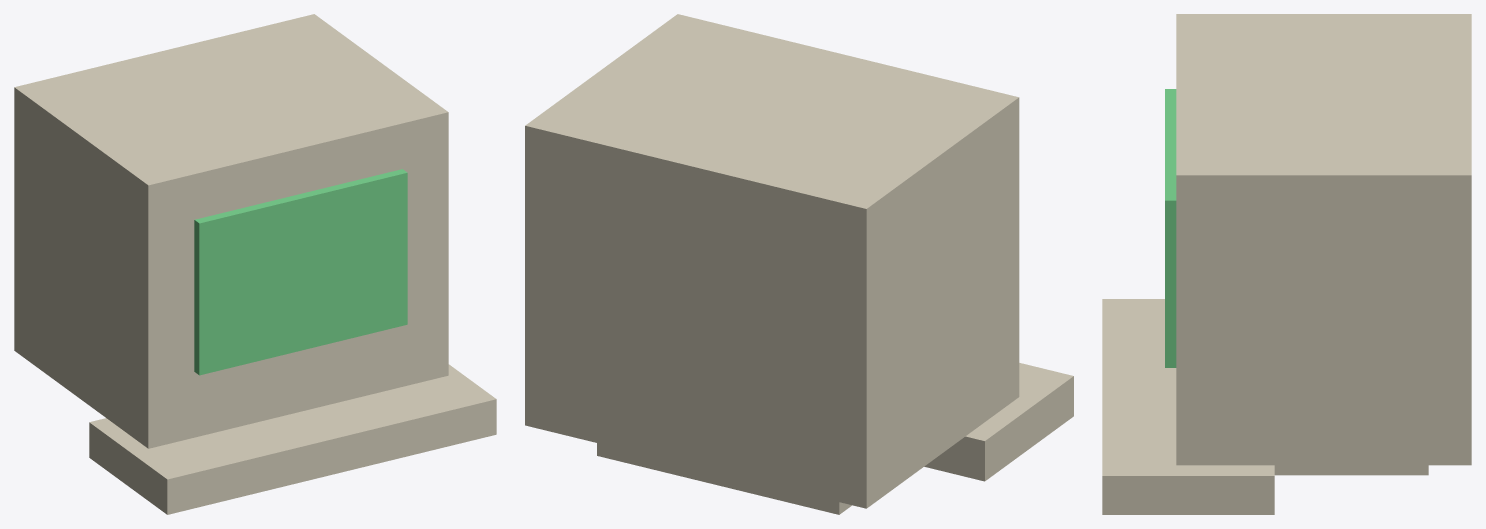
The model's file is crt_terminal_06.glb.
The picture shows the model from 3 angles, left to right: view 1: azimuth 30°, elevation 25°; view 2: azimuth 150°, elevation 25°; view 3: azimuth 270°, elevation 25°; orthographic projection. The views are drawn at different scales.
Parts seen in each view (by area): view 1: crt, screen, keyboard; view 2: crt, keyboard, base; view 3: crt, keyboard, screen, base.
Boxes of the visible parts, x1,y1,x2,y2 form: crt: (14, 14, 448, 448); screen: (194, 169, 407, 375); keyboard: (89, 364, 496, 514); crt: (525, 14, 1019, 508); keyboard: (924, 363, 1073, 481); base: (597, 443, 851, 514); crt: (1176, 14, 1471, 465); keyboard: (1102, 299, 1274, 514); screen: (1165, 89, 1176, 367); base: (1274, 465, 1428, 475).
Bounding box in the file's own units: 0.68 × 0.595 × 0.6.
